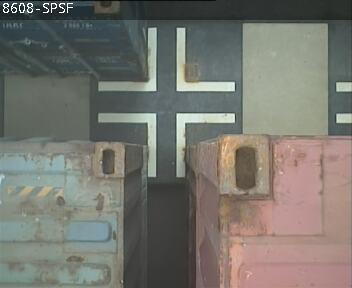groundmarker_1: (97, 112, 234, 176), (97, 28, 234, 91)
